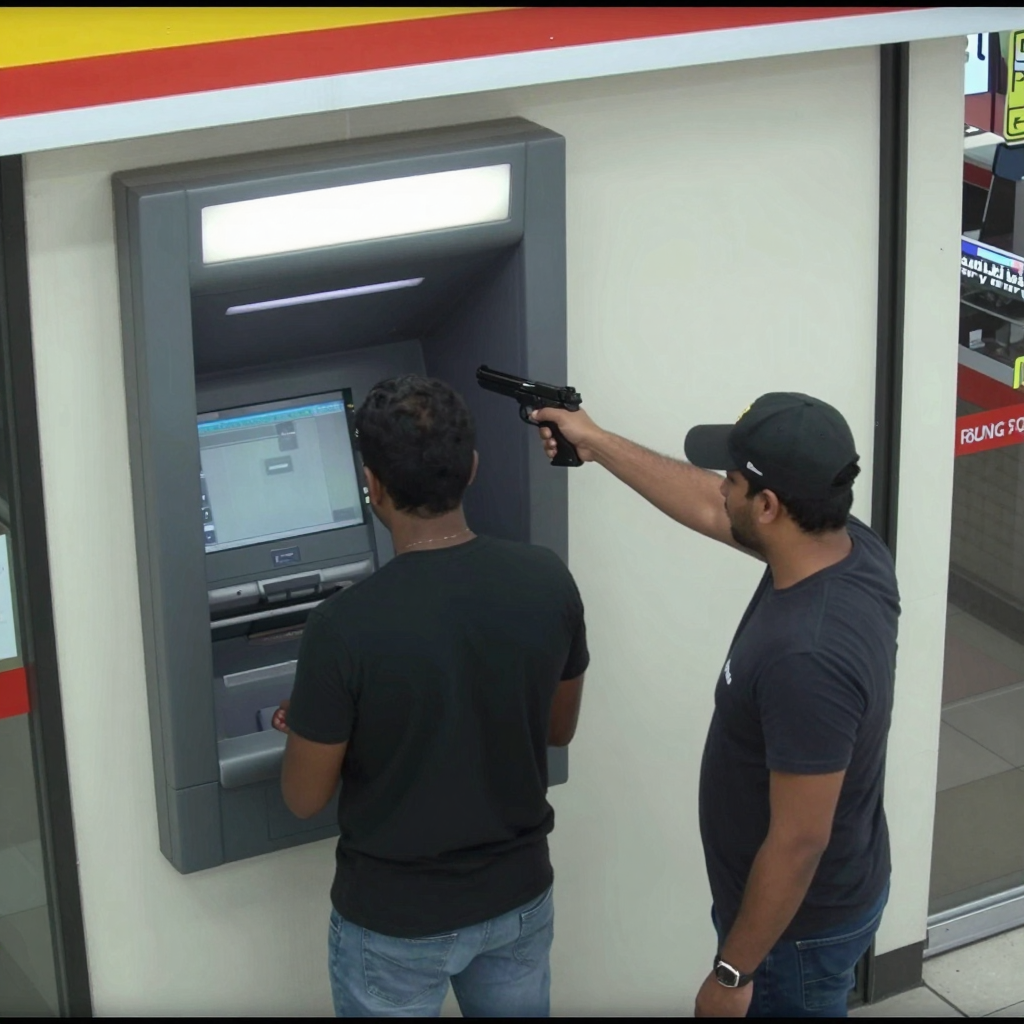Robbery: (527, 391, 902, 1018), (270, 372, 590, 1018)
Shooting: (475, 364, 583, 467)
